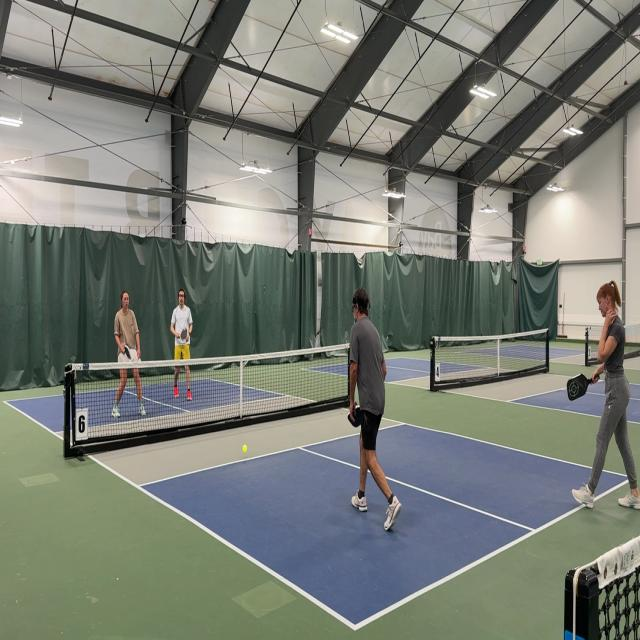ball: (242, 444, 248, 455)
